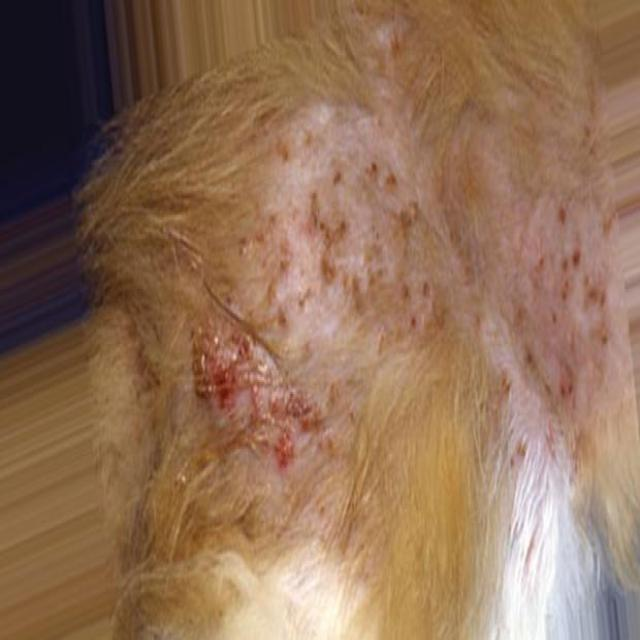di ung bo chet: (135, 152, 639, 640)
